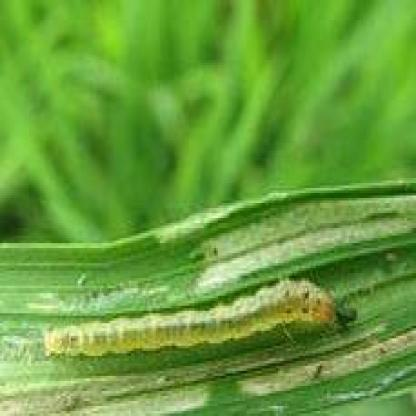leaf-folder: (34, 267, 367, 367)
